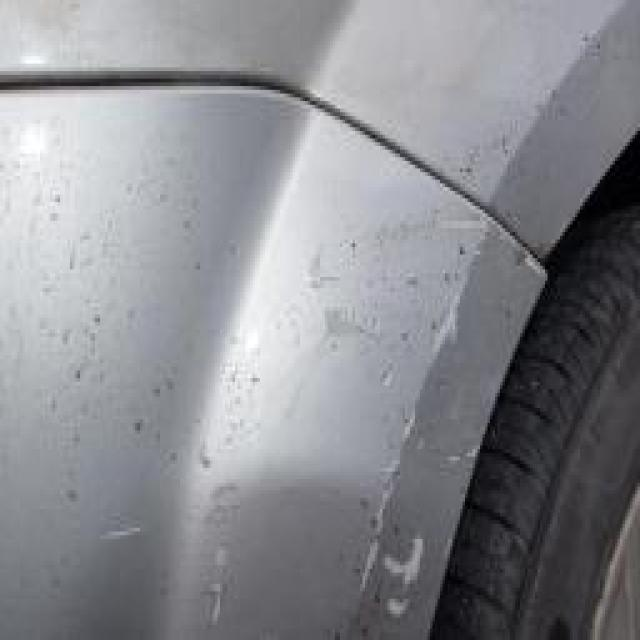Bumper: (10, 94, 522, 640)
